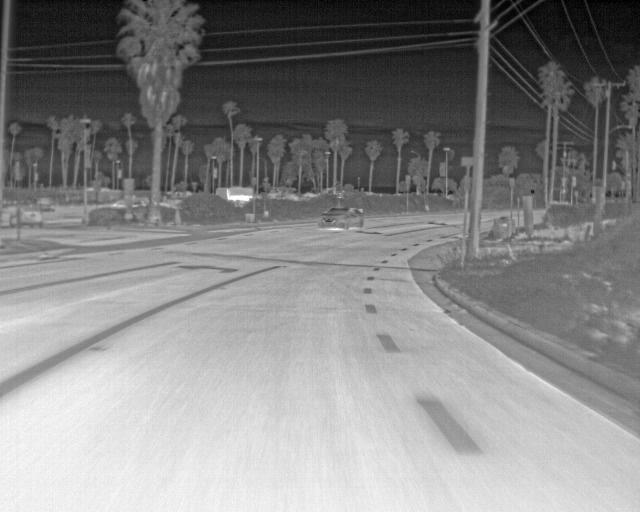car: (319, 205, 364, 230), (20, 203, 39, 231), (1, 206, 18, 232), (36, 195, 55, 210)
